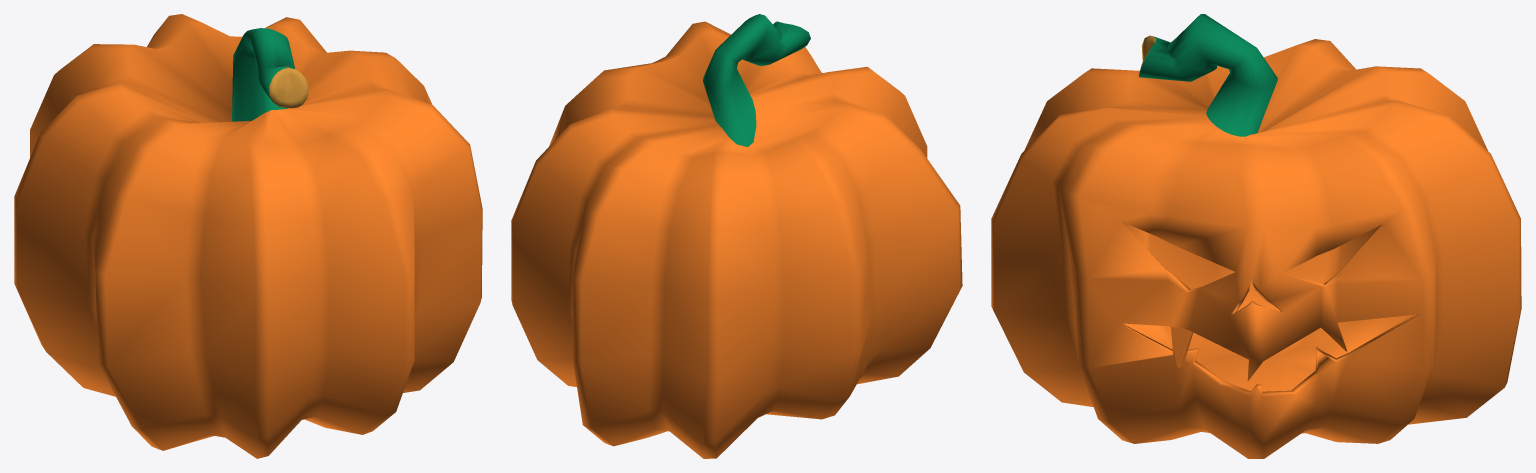
The model's file is enemy2.obj.
3 renders of one model, left to right at view 1: azimuth 30°, elevation 25°; view 2: azimuth 150°, elevation 25°; view 3: azimuth 270°, elevation 25°, orthographic. The views are drawn at different scales.
Visible parts, largest first — view 1: Cylinder; view 2: Cylinder; view 3: Cylinder.
Part boxes in pixels (x1=…): Cylinder: x1=14, y1=14, x2=482, y2=458; Cylinder: x1=511, y1=14, x2=962, y2=458; Cylinder: x1=991, y1=14, x2=1521, y2=458.
Size of the model in its own units: 2.32 by 2.17 by 2.65.
